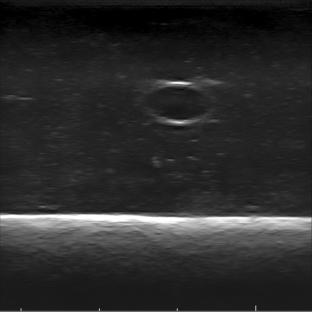vessel: (143, 81, 213, 126)
